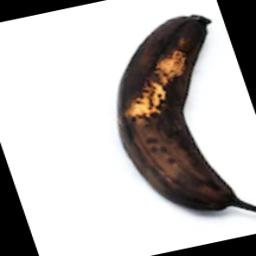Banana Rotten: (123, 7, 236, 234)
